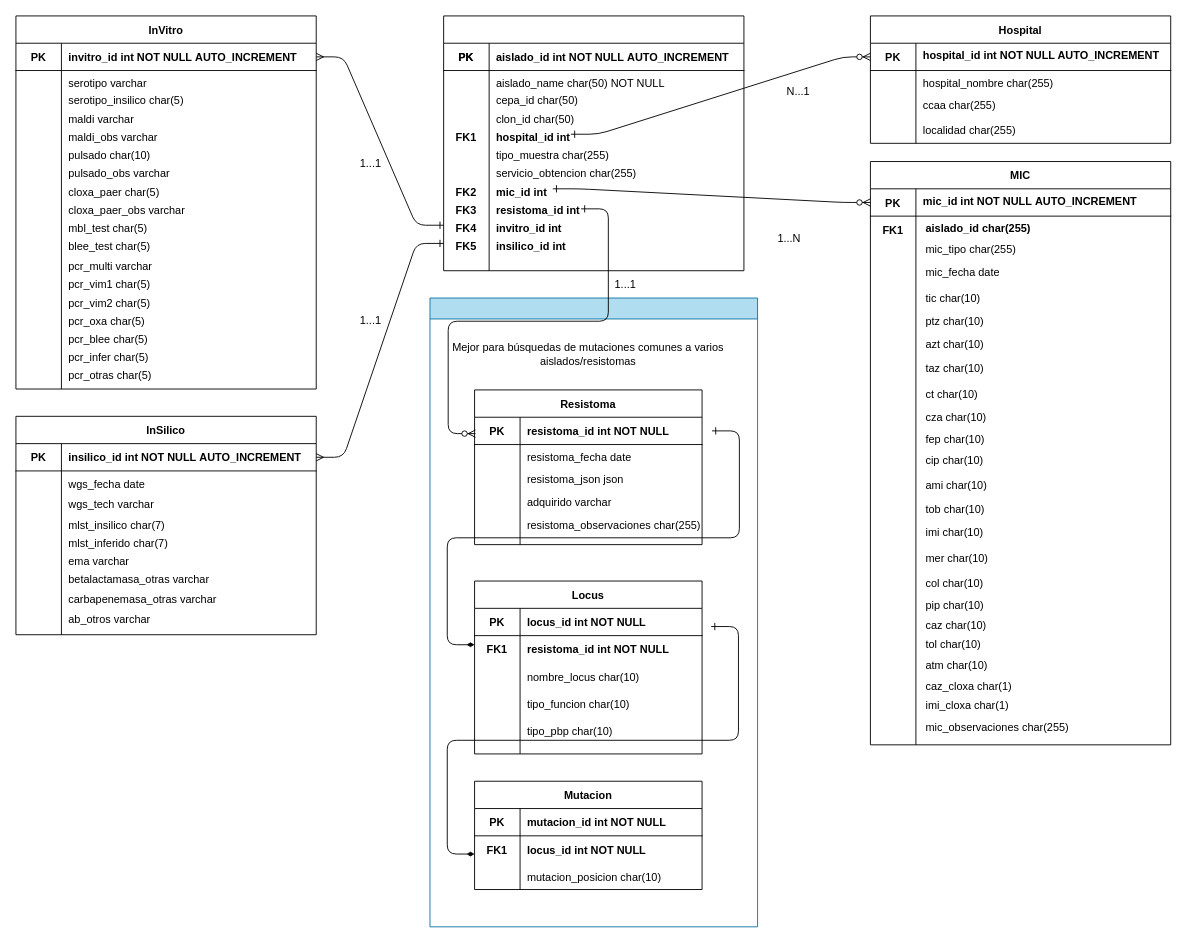
Image size: 1187x943. Some labels were removed from this diagram. Each missing label, with the box of its shape:
Resistoma usando tablas: (429, 297, 758, 927)
Summary: (443, 15, 744, 271)
